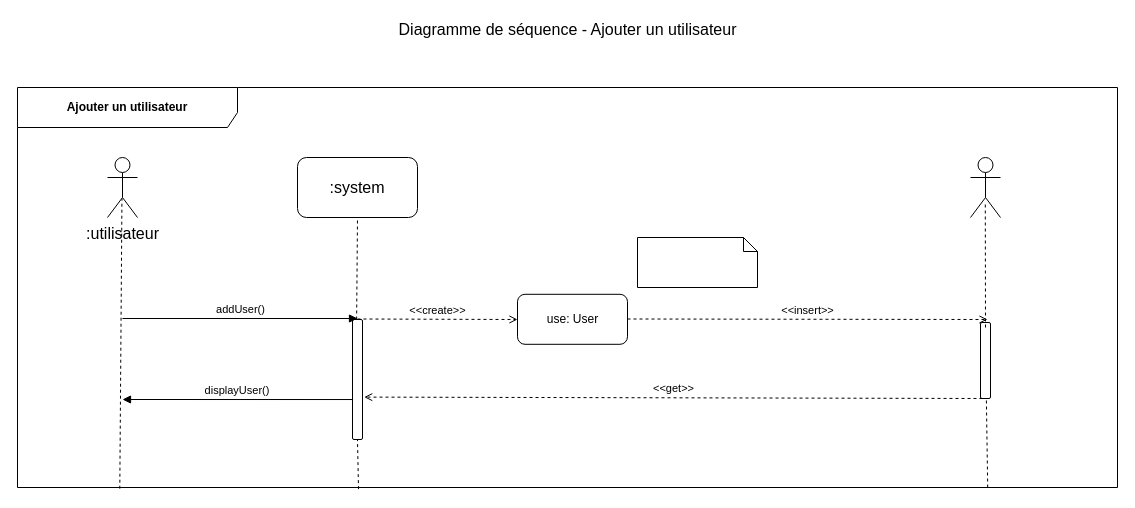
Some shapes in this 1135 by 508 pixel diagram are drawn without their labels. Each missing label, with the box of its shape:
:bdd: (970, 156, 1000, 218)
name, role, password...: (636, 236, 758, 288)
